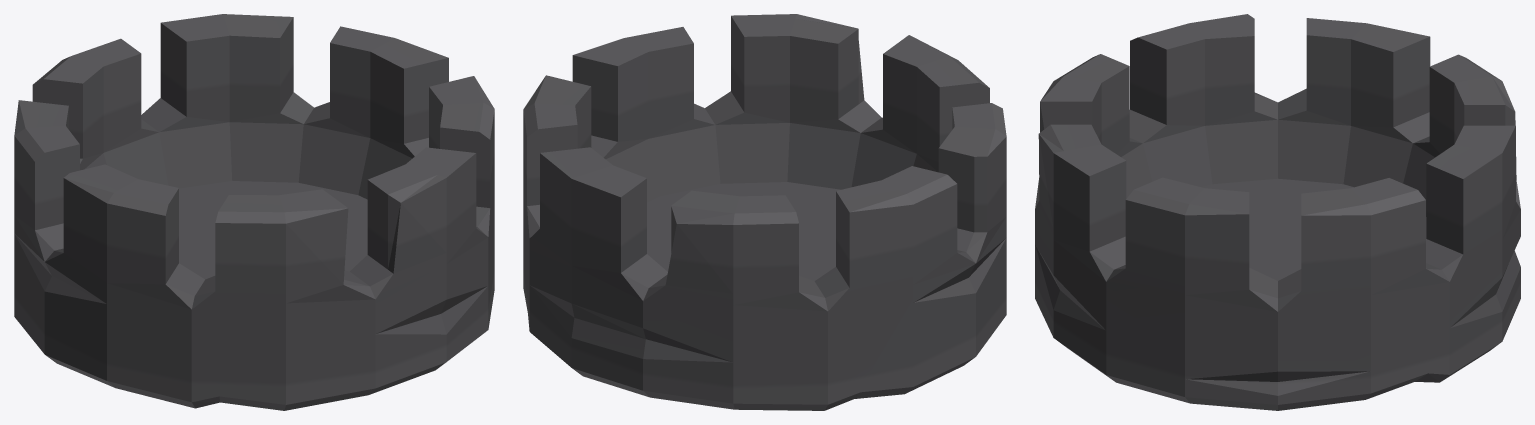
The model's file is SM_Bld_Castle_Tower_Round_Top_01_Lite.gltf.
3 views of the same model, side by side, from view 1: azimuth 30°, elevation 25°; view 2: azimuth 150°, elevation 25°; view 3: azimuth 270°, elevation 25° (orthographic).
Visible parts, largest first — view 1: SM_Bld_Castle_Tower_Round_Top_01_Lite; view 2: SM_Bld_Castle_Tower_Round_Top_01_Lite; view 3: SM_Bld_Castle_Tower_Round_Top_01_Lite.
Boxes of the visible parts, x1,y1,x2,y2 form: SM_Bld_Castle_Tower_Round_Top_01_Lite: (14,14,494,410); SM_Bld_Castle_Tower_Round_Top_01_Lite: (523,14,1006,410); SM_Bld_Castle_Tower_Round_Top_01_Lite: (1035,14,1520,410).
Bounding box in the file's own units: 3.24 × 1.47 × 3.24.
1 material, 1 textured.
